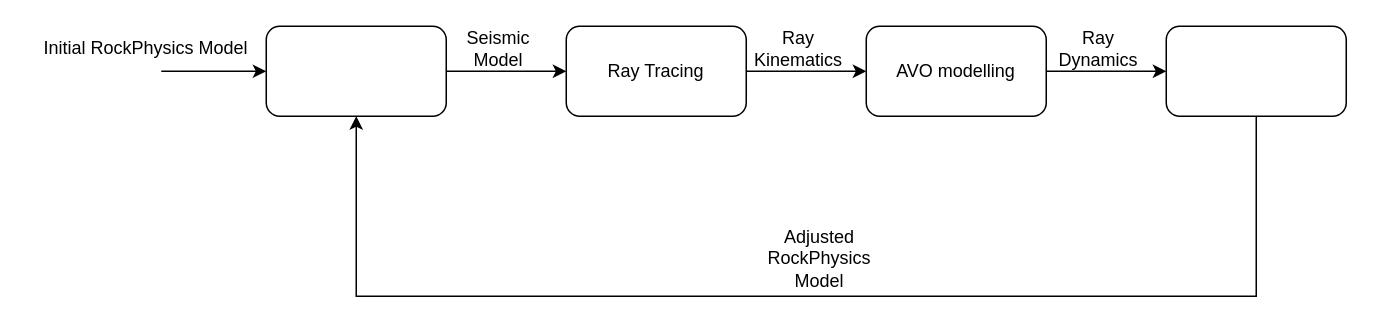
Some shapes in this 1373 by 335 pixel diagram are drawn without their labels. The centre of each missing label's shape, as x and y in pixels:
Misfit Calculation and attributes optimization: (x=1255, y=70)
Rock Physics modelling: (x=355, y=70)
